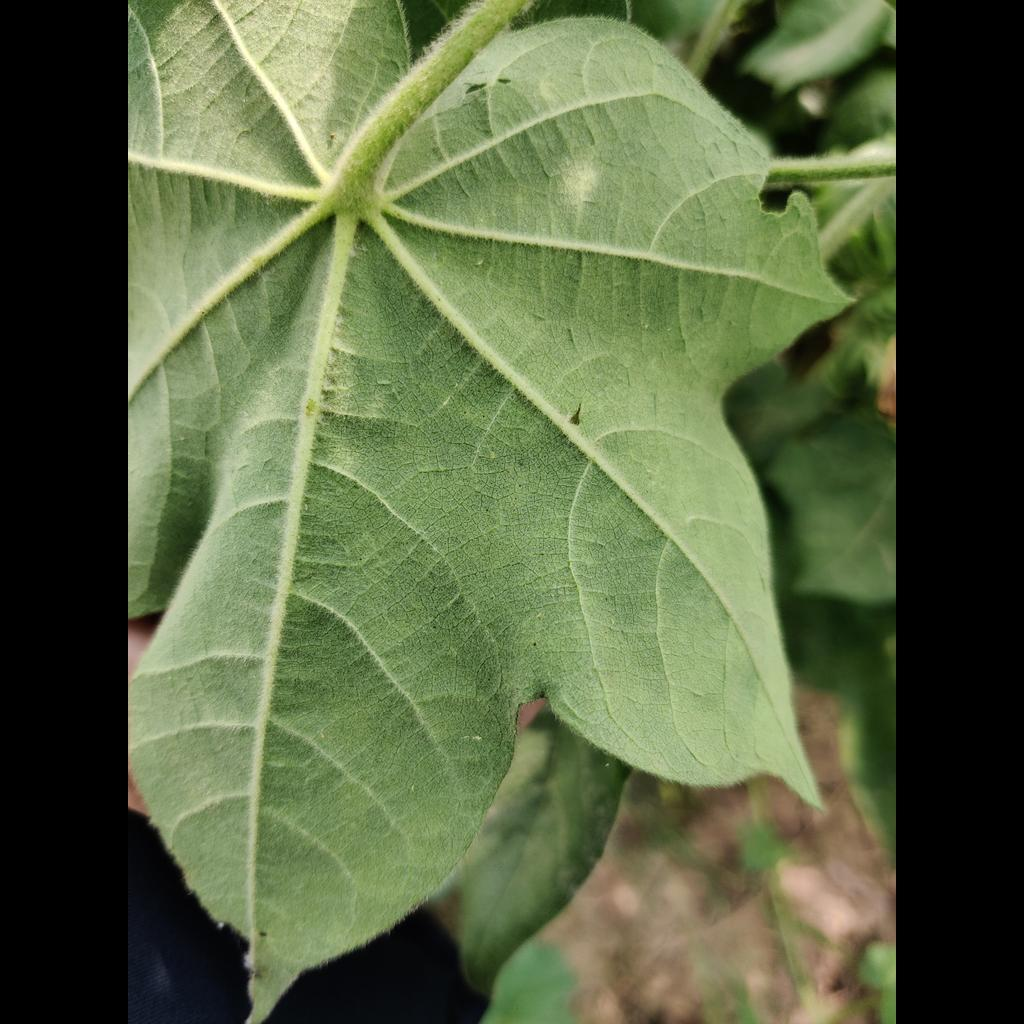nymph: (350, 250, 357, 256)
